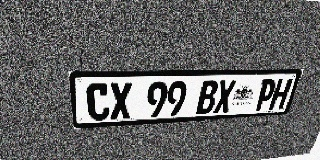9: (146, 81, 168, 117), (166, 81, 188, 116)
B: (196, 80, 219, 114)
C: (86, 83, 110, 121)
H: (269, 79, 293, 110)
P: (254, 79, 278, 111)
X: (110, 82, 131, 120), (213, 80, 236, 113)
